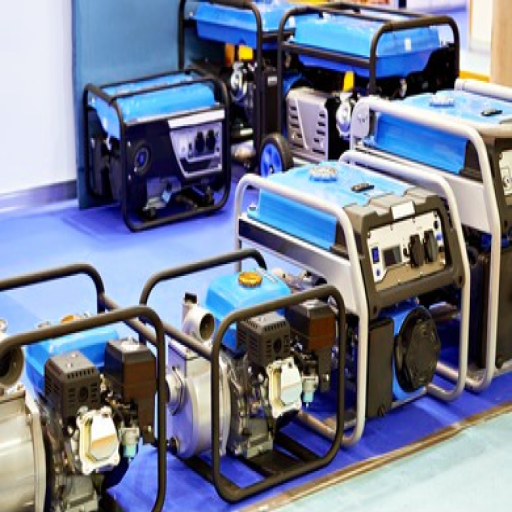portable_generator: (234, 161, 472, 441), (139, 248, 348, 505), (1, 264, 166, 512), (280, 6, 460, 160), (83, 67, 231, 231), (178, 1, 276, 153)
